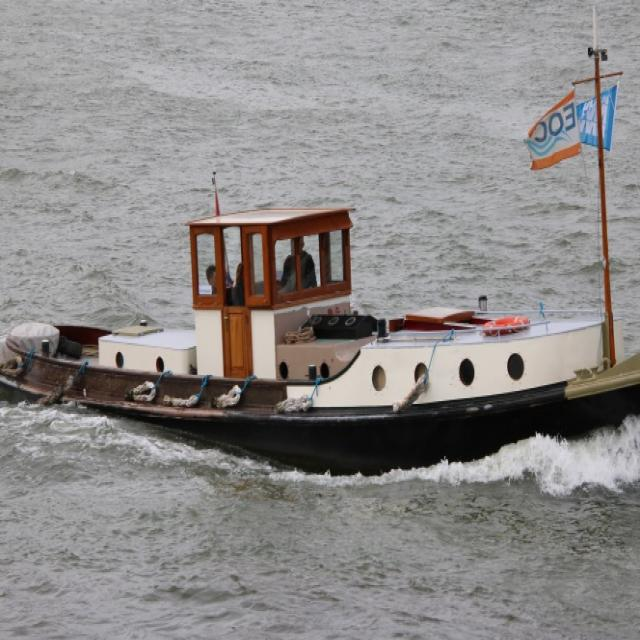tugboat: (1, 1, 640, 508)
